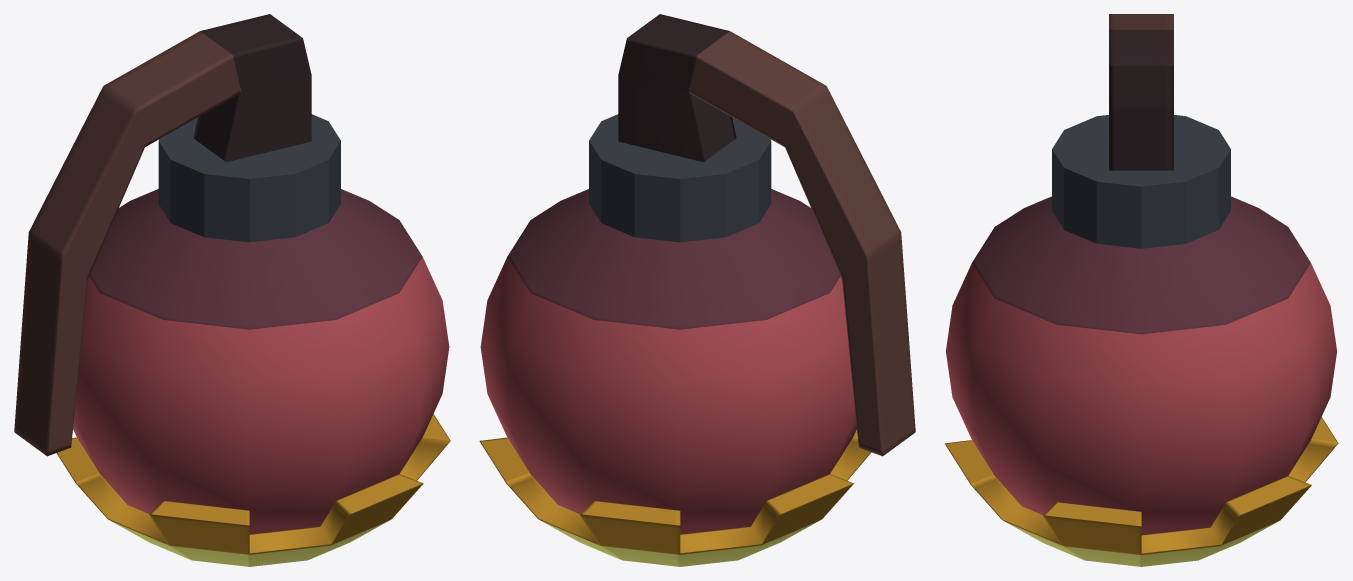
The model's file is SM_incendiaryGrenade.fbx.
3 views of the same model, side by side, from view 1: azimuth 30°, elevation 25°; view 2: azimuth 150°, elevation 25°; view 3: azimuth 270°, elevation 25° (orthographic). The views are drawn at different scales.
Visible parts, largest first — view 1: SM_IncendiaryGrenade; view 2: SM_IncendiaryGrenade; view 3: SM_IncendiaryGrenade.
Part boxes in pixels (x1,y1,x2,y2): SM_IncendiaryGrenade: (14,14,450,566); SM_IncendiaryGrenade: (479,14,915,566); SM_IncendiaryGrenade: (944,14,1338,566).
Size of the model in its own units: 13.52 by 16.8 by 11.98.
